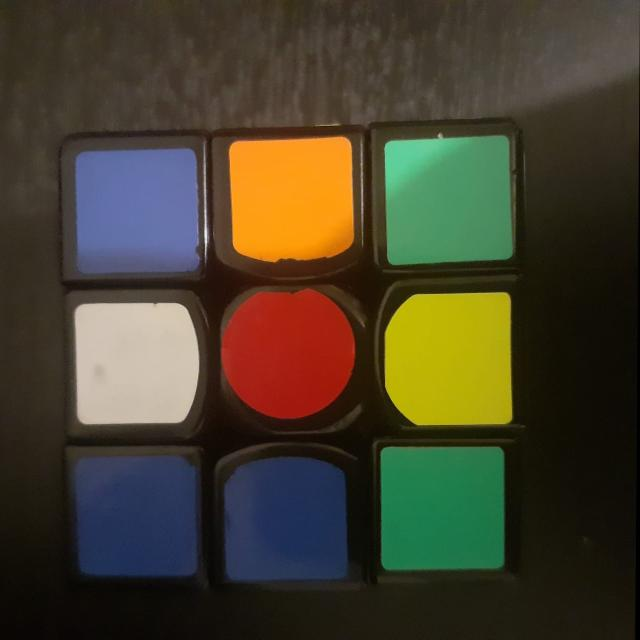Blue: (69, 142, 206, 278), (222, 451, 356, 585), (71, 452, 201, 584)
Green: (376, 122, 506, 268), (376, 442, 508, 576)
Orange: (224, 140, 358, 268)
Red: (214, 286, 356, 426)
White: (71, 295, 198, 437)
Yellow: (380, 282, 508, 431)
